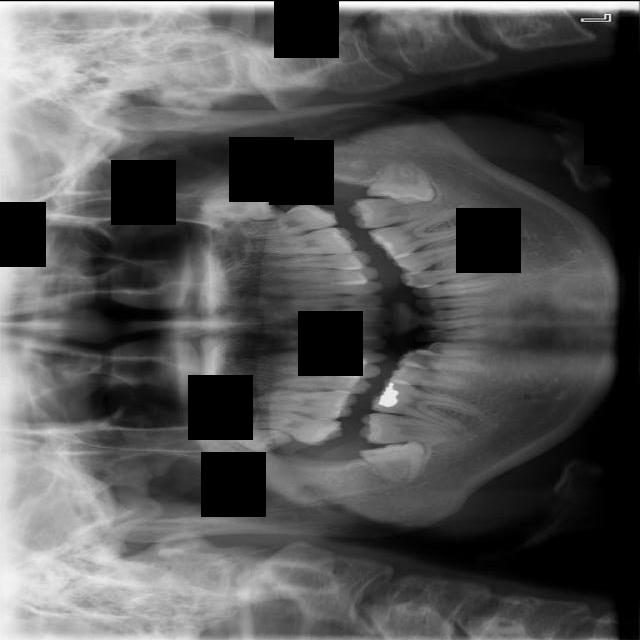3M ESPE Implant: (201, 417, 295, 457)
52: (366, 368, 421, 424), (365, 215, 417, 267)
73: (586, 14, 600, 22)
BioHorizons Implant: (218, 197, 340, 248)
BioLife Implant: (199, 193, 286, 219)
Biomet 3i Implant: (365, 152, 441, 209)
Blue Sky Bio Implant: (348, 196, 449, 228)
Caries: (240, 402, 346, 450)
Implant: (359, 412, 459, 444)
Keystone Dental Implant: (358, 438, 429, 490)
